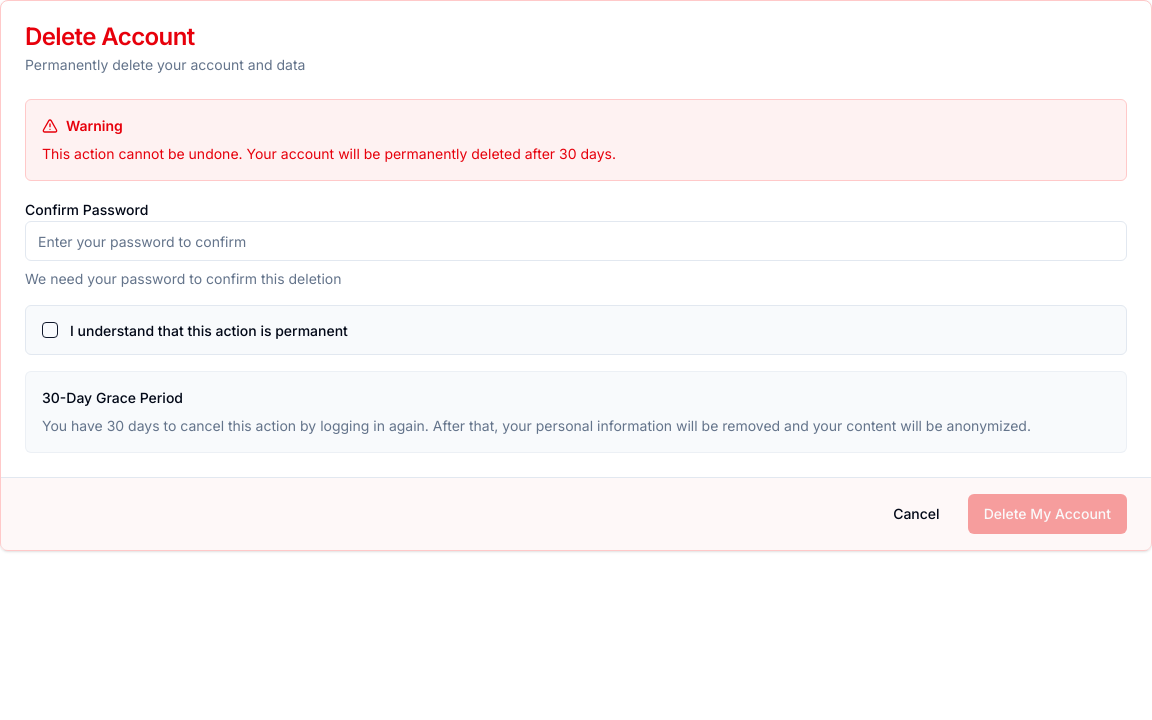
it: 🔴 RED: DeleteAccountForm Component › Form Submission › should display field-level errors from server
Type "WrongPassword123" into the password field labelled "Confirm Password" at (576, 241), box [25,221,1127,261]
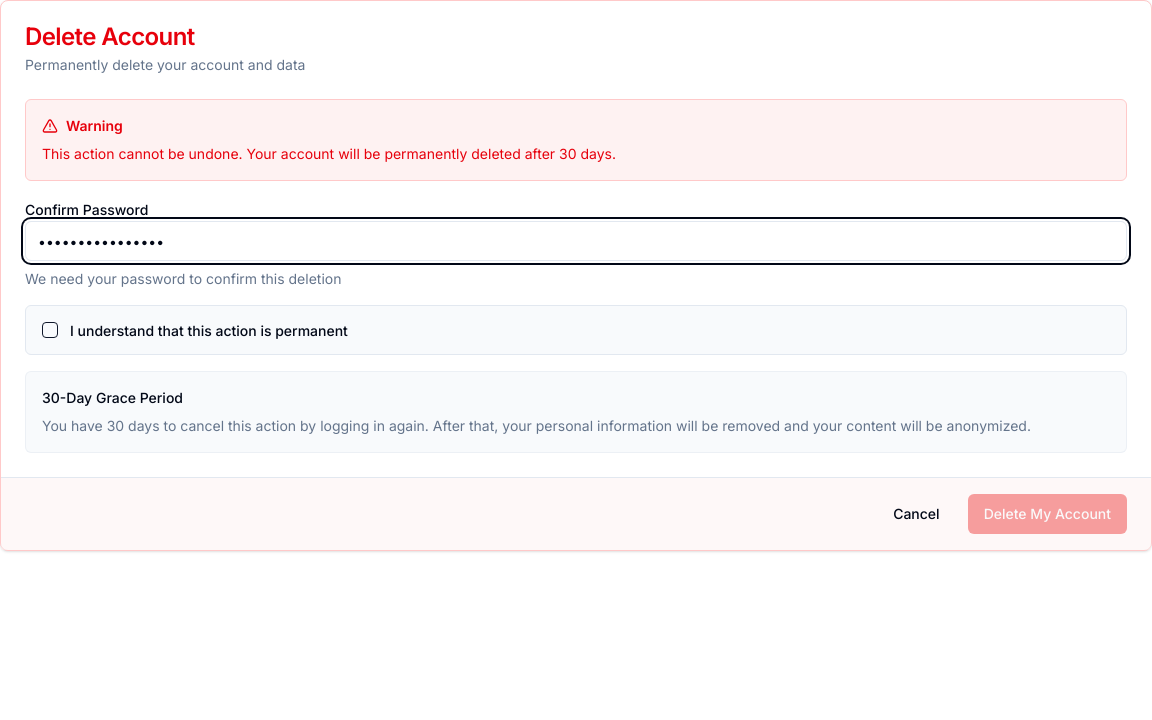
Click the checkbox named "i understand that this action is permanent" at (50, 330), box [42,322,58,338]
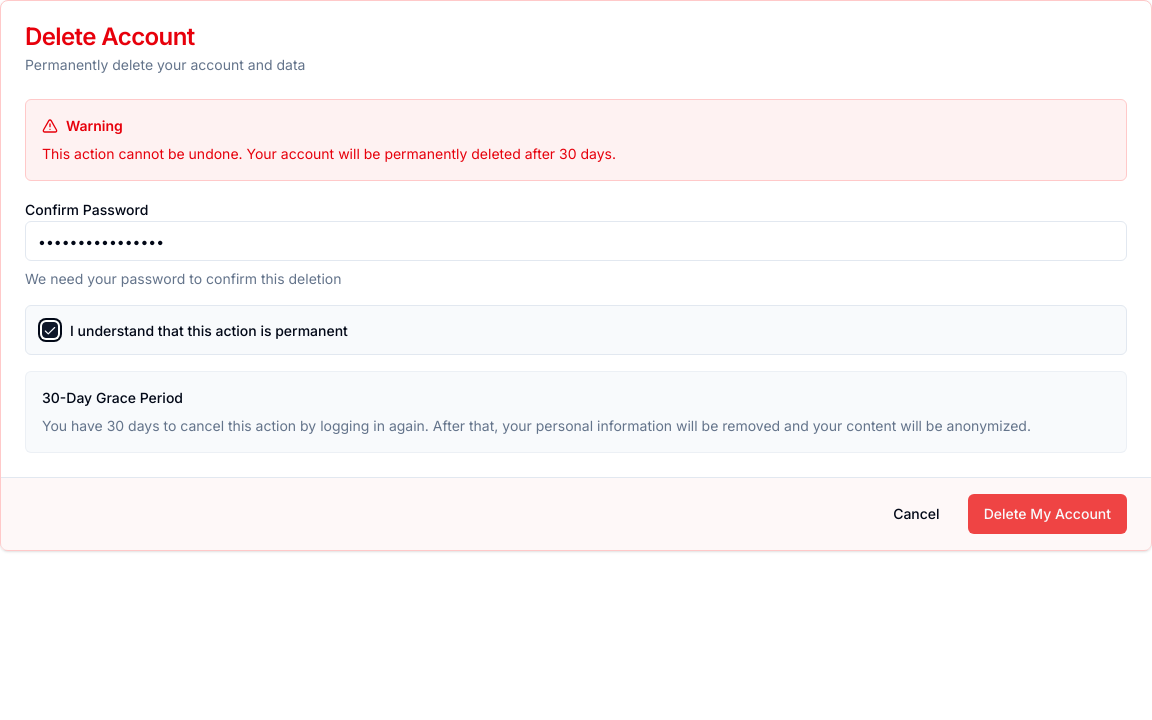
Click the button "Delete My Account" at (1047, 514), box [968,494,1127,534]
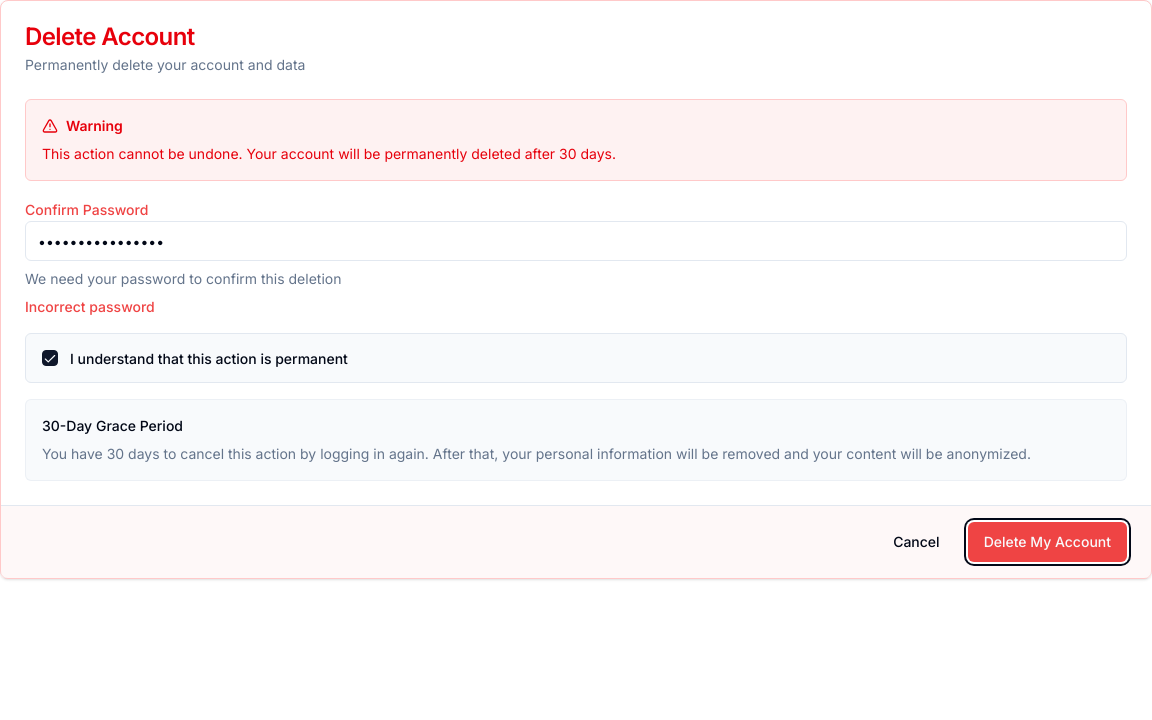
Expected: the text "Incorrect password" is shown, [25,298,155,315]
